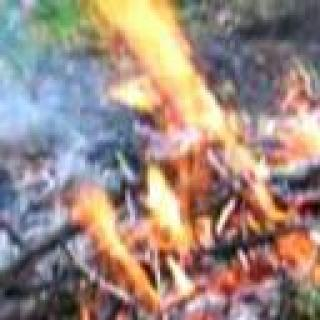fire: (86, 6, 295, 320), (255, 39, 320, 264)
